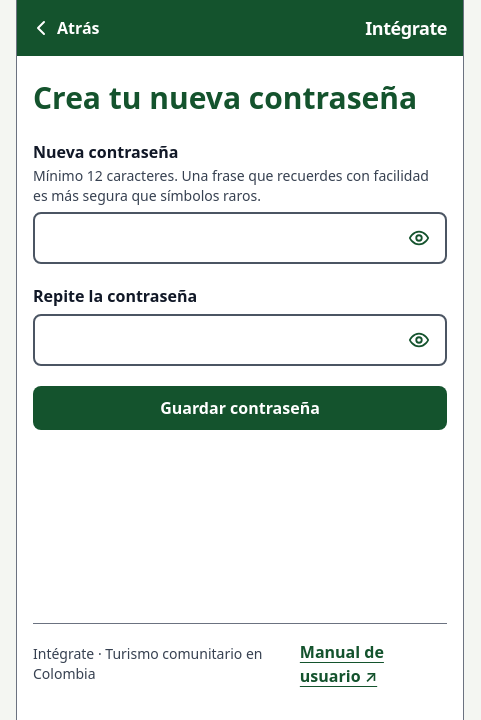
Test: recuperación de contraseña (T-1.13b, ADR-0014 §5) › restablece con el token del enlace, lo borra de la URL y lleva a ingresar con aviso
Type "una-frase-larga-y-propia" into the password field labelled "Nueva contraseña". click: [216, 238]
box: [35,214,397,262]
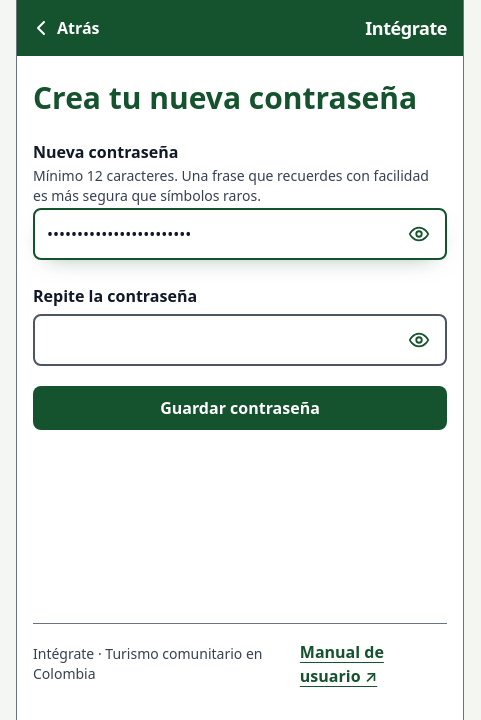
Type "una-frase-larga-y-propia" into the password field labelled "Repite la contraseña". click: [216, 340]
box: [35,316,397,364]
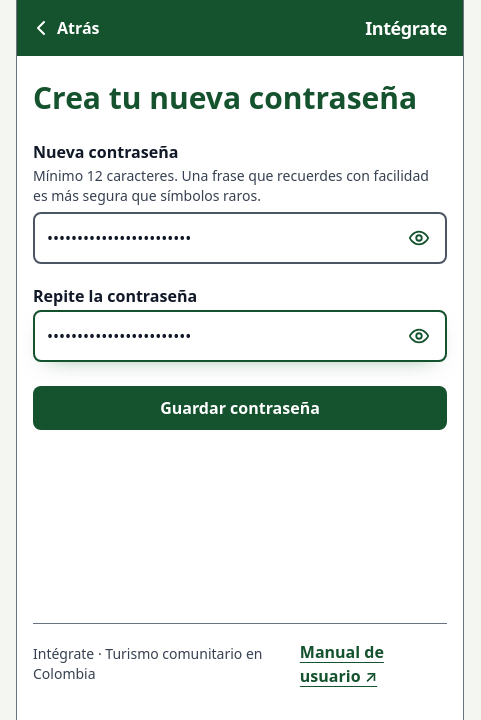
Click the button "Guardar contraseña". click: [240, 408]
box: [33,386,447,430]
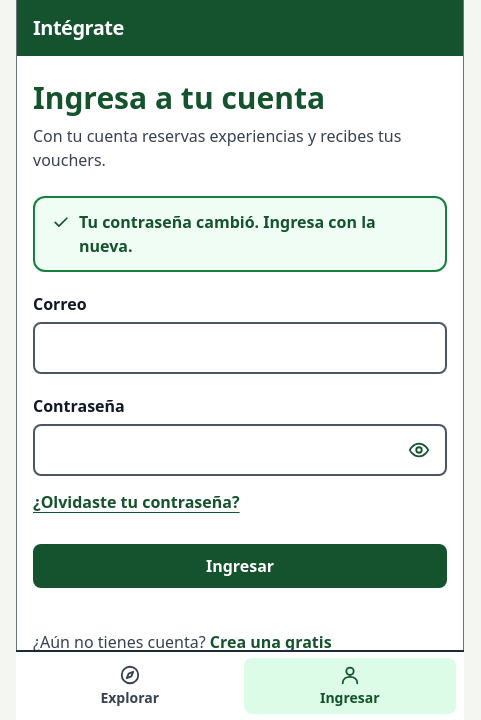
Check: the heading "Ingresa a tu cuenta" is shown, box [33,77,325,118]
Check: the message reads "Tu contraseña cambió. Ingresa con la nueva.", box [79,211,376,257]
